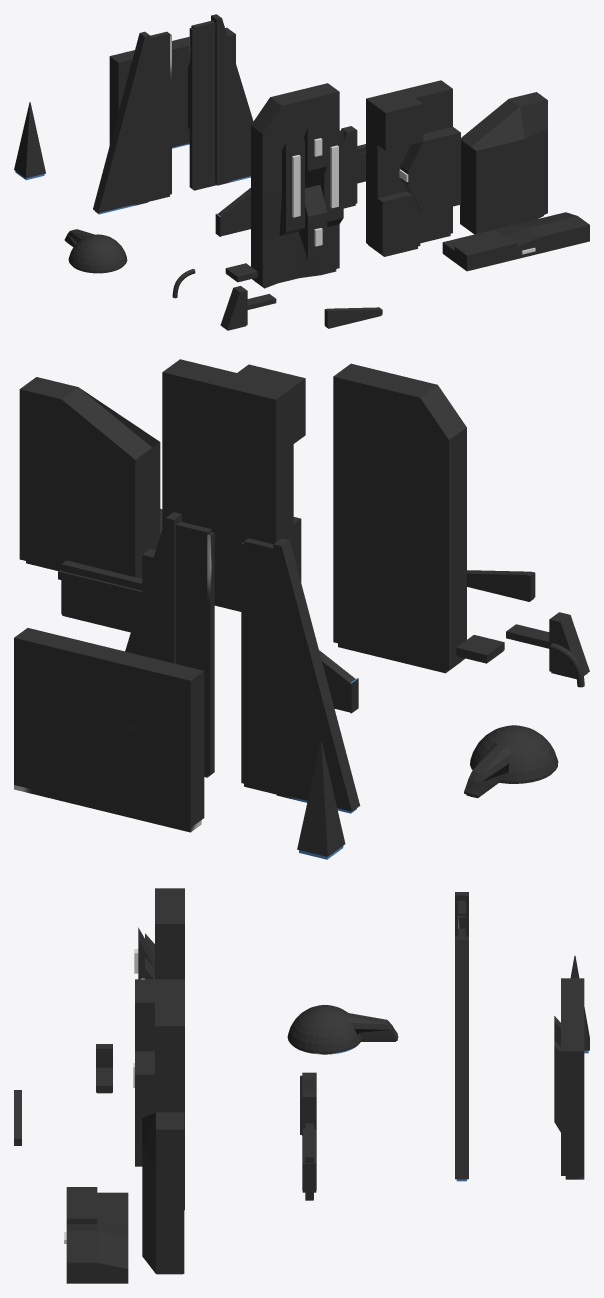
Rendered from spike.fbx.
3 renders of one model, top to bottom at view 1: azimuth 30°, elevation 25°; view 2: azimuth 150°, elevation 25°; view 3: azimuth 270°, elevation 25°, orthographic. The views are drawn at different scales.
Parts seen in each view (by area): view 1: Куб.012, Куб.011, Куб.002, Куб.010, Куб.014, Куб.004, Куб.003, Куб.001, Сфера, Куб, Куб.013, Куб.006 (+3 smaller); view 2: Куб.012, Куб.001, Куб.011, Куб.010, Куб.002, Куб.003, Куб.004, Сфера, Куб.007, Куб, Куб.013, Куб.015 (+3 smaller); view 3: Куб.011, Куб.010, Куб.014, Куб.001, Куб.002, Сфера, Куб.012, Куб.006, Куб.013, Куб.007.
Part boxes in pixels (box(x1,y1,x2,y2)): Куб.012: box(251, 83, 343, 288); Куб.011: box(366, 80, 460, 256); Куб.002: box(93, 14, 253, 214); Куб.010: box(460, 92, 547, 234); Куб.014: box(442, 212, 589, 271); Куб.004: box(189, 20, 216, 190); Куб.003: box(148, 31, 171, 201); Куб.001: box(109, 27, 235, 148); Сфера: box(64, 229, 127, 273); Куб: box(14, 102, 45, 180); Куб.013: box(220, 286, 276, 330); Куб.006: box(341, 126, 357, 208); Куб.012: box(333, 363, 466, 673); Куб.001: box(14, 628, 204, 832); Куб.011: box(162, 359, 305, 611); Куб.010: box(19, 377, 160, 578); Куб.002: box(125, 512, 360, 813); Куб.003: box(241, 538, 276, 794); Куб.004: box(175, 521, 214, 777); Сфера: box(464, 725, 558, 797); Куб.007: box(61, 560, 142, 632); Куб: box(297, 742, 345, 859); Куб.013: box(506, 612, 589, 679); Куб.015: box(467, 570, 535, 601); Куб.011: box(135, 979, 184, 1210); Куб.010: box(142, 1112, 184, 1274); Куб.014: box(64, 1187, 128, 1283); Куб.001: box(554, 978, 584, 1179); Куб.002: box(455, 892, 468, 1181); Сфера: box(287, 1005, 398, 1054); Куб.012: box(133, 888, 184, 1087); Куб.006: box(302, 1072, 316, 1192); Куб.013: box(96, 1044, 112, 1093); Куб.007: box(305, 1123, 313, 1200).
Size of the model in its own units: 4081 by 1776 by 3837.
